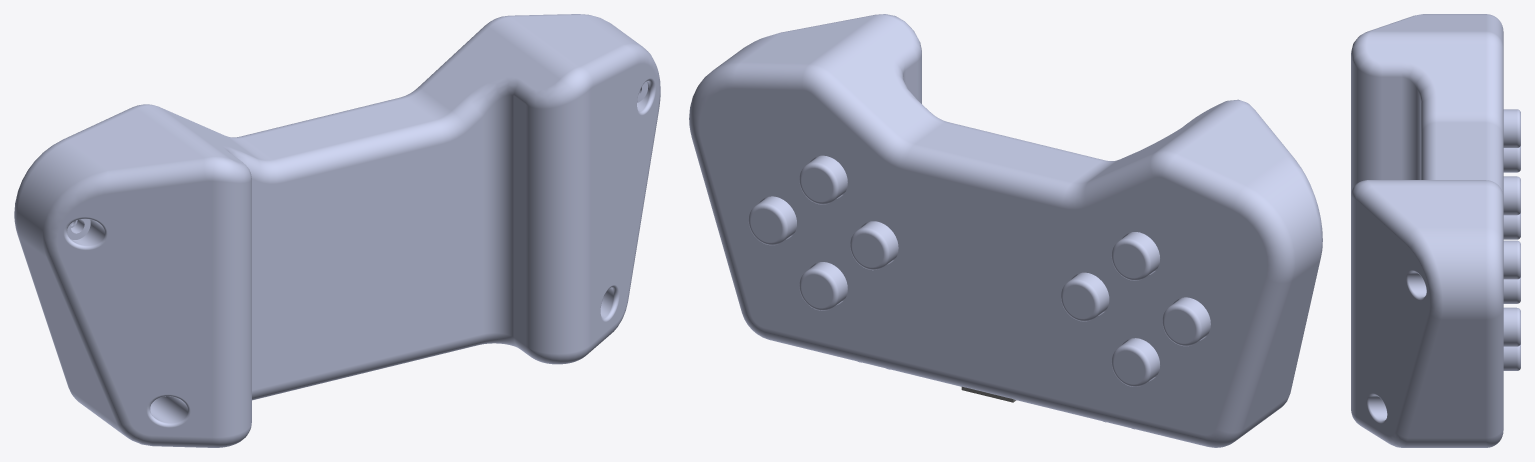
The model's file is JudgeController.glb.
3 views of the same model, side by side, from view 1: azimuth 30°, elevation 25°; view 2: azimuth 150°, elevation 25°; view 3: azimuth 270°, elevation 25° (orthographic). The views are drawn at different scales.
Visible parts, largest first — view 1: NAUO2, NAUO3; view 2: NAUO3, NAUO2, NAUO9, NAUO5, NAUO6, NAUO11, NAUO7, NAUO8, NAUO4, NAUO10; view 3: NAUO2, NAUO3, NAUO6, NAUO9, NAUO11, NAUO7, NAUO4, NAUO5, NAUO10, NAUO8.
Part boxes in pixels (box(x1,y1,x2,y2)): NAUO2: box(41, 33, 660, 447); NAUO3: box(14, 14, 634, 419); NAUO3: box(689, 44, 1319, 447); NAUO2: box(738, 14, 1322, 422); NAUO9: box(799, 155, 847, 204); NAUO5: box(1162, 297, 1210, 346); NAUO6: box(1061, 272, 1109, 321); NAUO11: box(748, 196, 796, 245); NAUO7: box(1111, 232, 1159, 280); NAUO8: box(850, 221, 898, 270); NAUO4: box(1111, 338, 1159, 386); NAUO10: box(799, 262, 847, 310); NAUO2: box(1351, 14, 1444, 447); NAUO3: box(1444, 14, 1503, 447); NAUO6: box(1503, 176, 1520, 215); NAUO9: box(1503, 240, 1520, 279); NAUO11: box(1503, 307, 1520, 346); NAUO7: box(1503, 109, 1520, 147); NAUO4: box(1503, 212, 1520, 239); NAUO5: box(1503, 145, 1520, 172); NAUO10: box(1503, 344, 1520, 370); NAUO8: box(1503, 277, 1520, 303).
Bounding box in the file's own units: 0.1546 × 0.071 × 0.0437.
